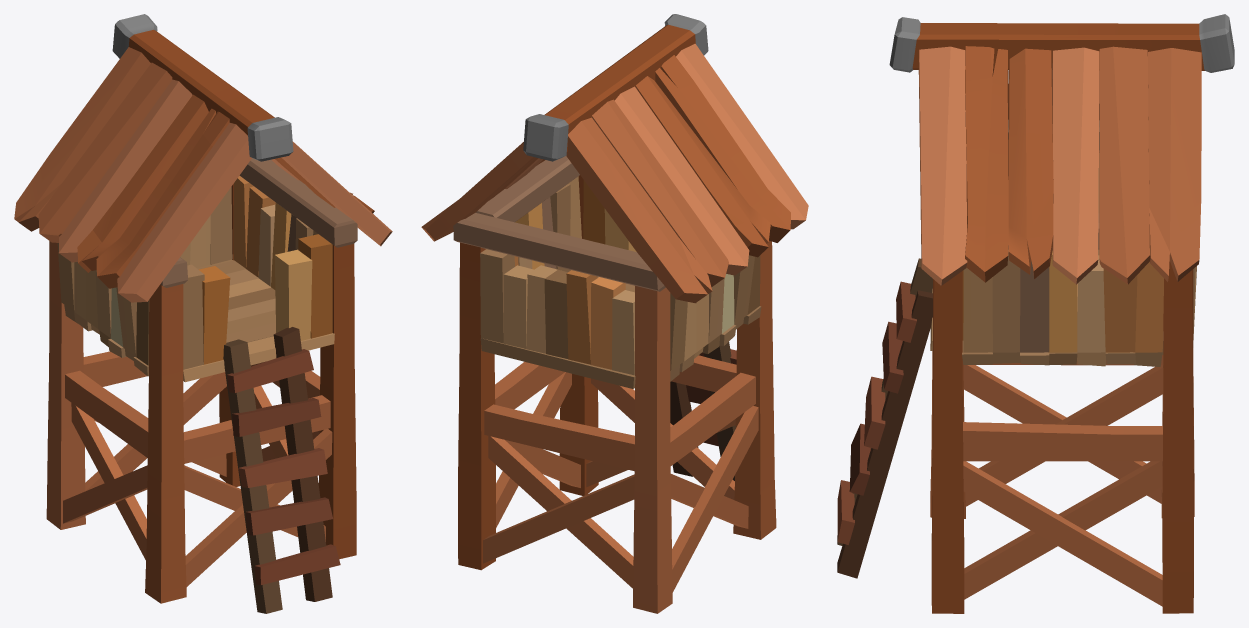
File: Tower_Wood.fbx
3 views of the same model, side by side, from view 1: azimuth 30°, elevation 25°; view 2: azimuth 150°, elevation 25°; view 3: azimuth 270°, elevation 25° (orthographic). The views are drawn at different scales.
Parts seen in each view (by area): view 1: Tower_Wood; view 2: Tower_Wood; view 3: Tower_Wood.
Part boxes in pixels (left/top/right/bottom): Tower_Wood: left=14, top=14, right=392, bottom=613; Tower_Wood: left=421, top=14, right=808, bottom=613; Tower_Wood: left=837, top=14, right=1234, bottom=613.
Bounding box in the file's own units: 462 × 743 × 496.
